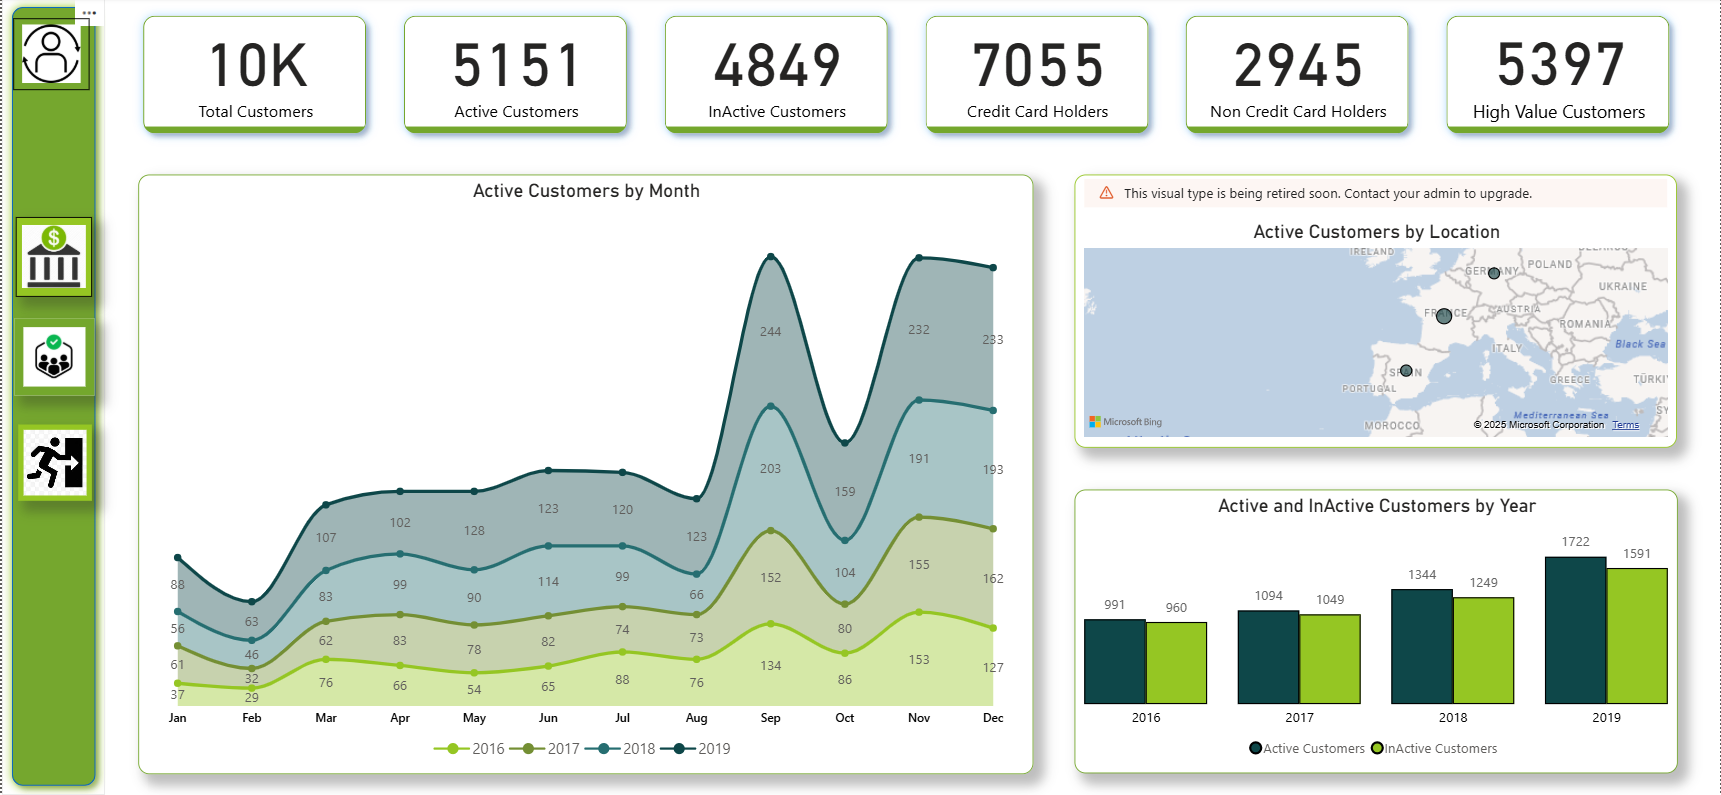

The dashboard page shown, as its layout file describes it:
{"tool":"powerbi","page":{"name":"Customers","canvas":[1550,720],"ordinal":0},"visuals":[{"type":"cardVisual","fields":{"Data":["Bank_Churn.Total Customers","Bank_Churn.Active Customers","Bank_Churn.InActive Customers","Bank_Churn.CCH","Bank_Churn.NonCCH","Bank_Churn.High_Value_Customers"]},"box":[110.7,0,1410.7,140.6],"z":0},{"type":"shape","box":[0,0,93.3,720.3],"z":1000},{"type":"image","box":[14.1,385.1,66.3,69.1],"z":3000},{"type":"clusteredColumnChart","title":"Active and InActive Customers by Year","fields":{"Category":["Bank_Churn.Year"],"Y":["Bank_Churn.Active Customers","Bank_Churn.InActive Customers"]},"box":[966.7,444.4,544.2,255.7],"z":4000},{"type":"image","box":[12.7,198.9,69.1,71.9],"z":5000},{"type":"stackedAreaChart","title":"Active Customers by Month","fields":{"Y":["Bank_Churn.Active Customers"],"Series":["Date.Year"],"Category":["Date.Month Name"]},"box":[122.5,160.5,806.8,540.7],"z":6000},{"type":"image","box":[11.2,290.1,72.2,69.7],"z":7000},{"type":"map","title":"Active Customers by Location","fields":{"Category":["Geography.GeographyLocation"],"Size":["Bank_Churn.Active Customers"]},"box":[967.3,160.5,543.5,246.4],"z":8000},{"type":"image","box":[10,18.7,68.5,64.7],"z":9000}]}

Visuals, with their boxes on the page's 1550x720 design canvas (x1, y1, x2, y2). These are canvas units, not pixel positions in the 1721x795 screenshot, which may show the page scaled, cropped or inside an application window:
cardVisual - Bank_Churn.Total Customers x Bank_Churn.Active Customers: box(111, 0, 1521, 141)
shape: box(0, 0, 93, 720)
image: box(14, 385, 80, 454)
"Active and InActive Customers by Year" clusteredColumnChart: box(967, 444, 1511, 700)
image: box(13, 199, 82, 271)
"Active Customers by Month" stackedAreaChart: box(122, 160, 929, 701)
image: box(11, 290, 83, 360)
"Active Customers by Location" map: box(967, 160, 1511, 407)
image: box(10, 19, 78, 83)
